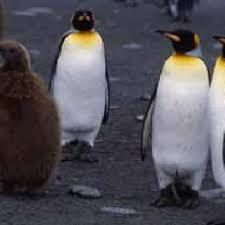king: (146, 20, 218, 207), (38, 0, 118, 160)
